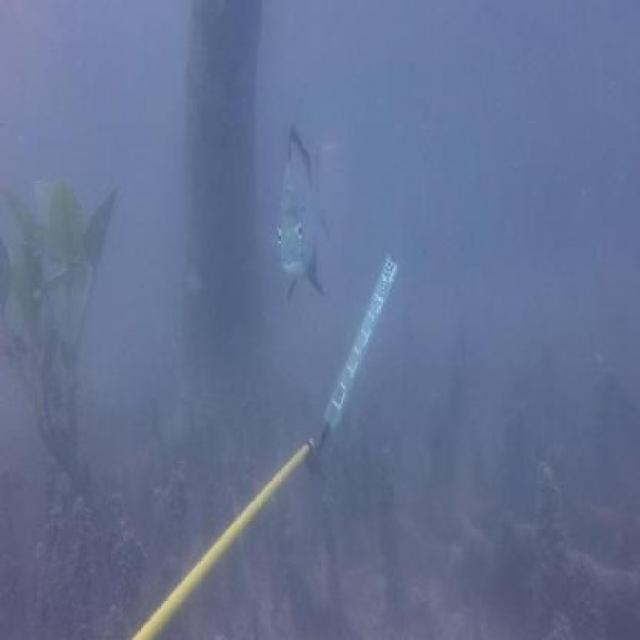acanthopagrus_palmaris: (272, 126, 342, 308)
